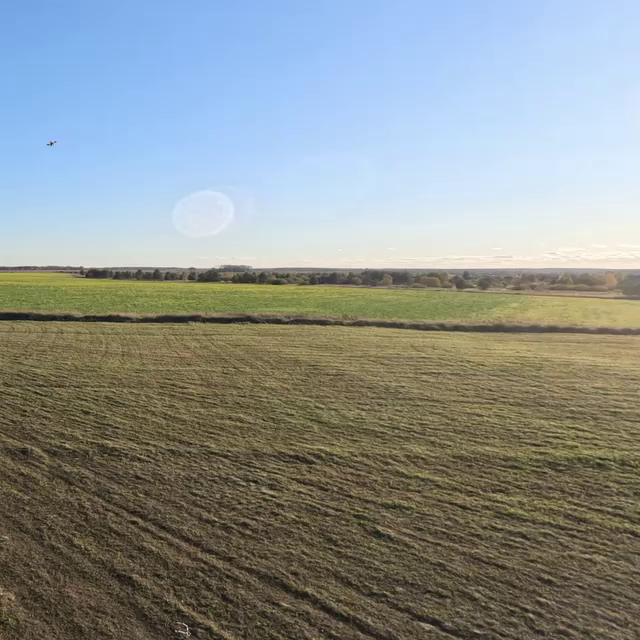drone: (44, 137, 58, 148)
